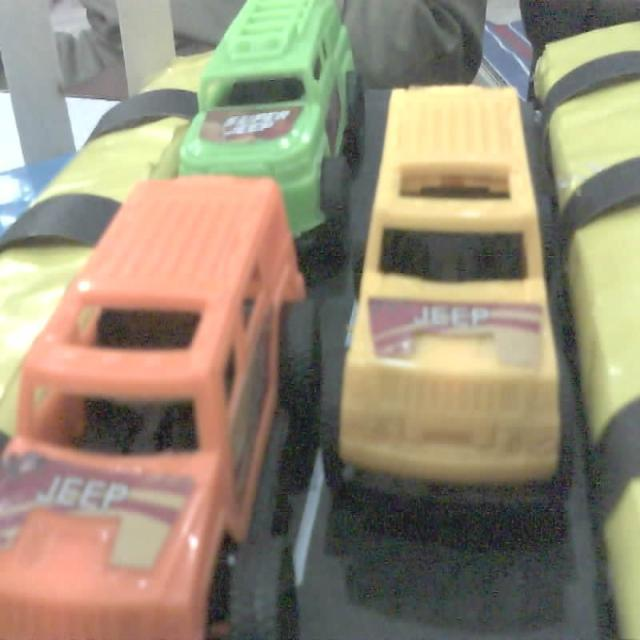ThreeCar: (1, 175, 326, 640), (329, 74, 584, 538), (173, 0, 368, 274)
